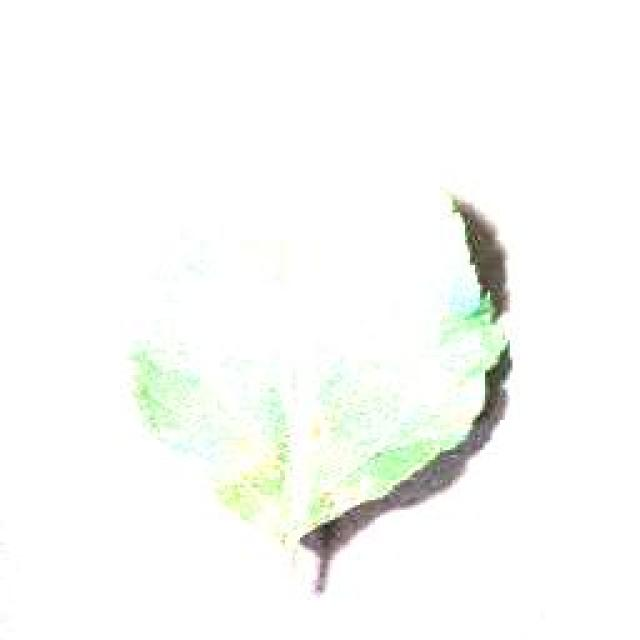apple healthy: (125, 187, 515, 595)
